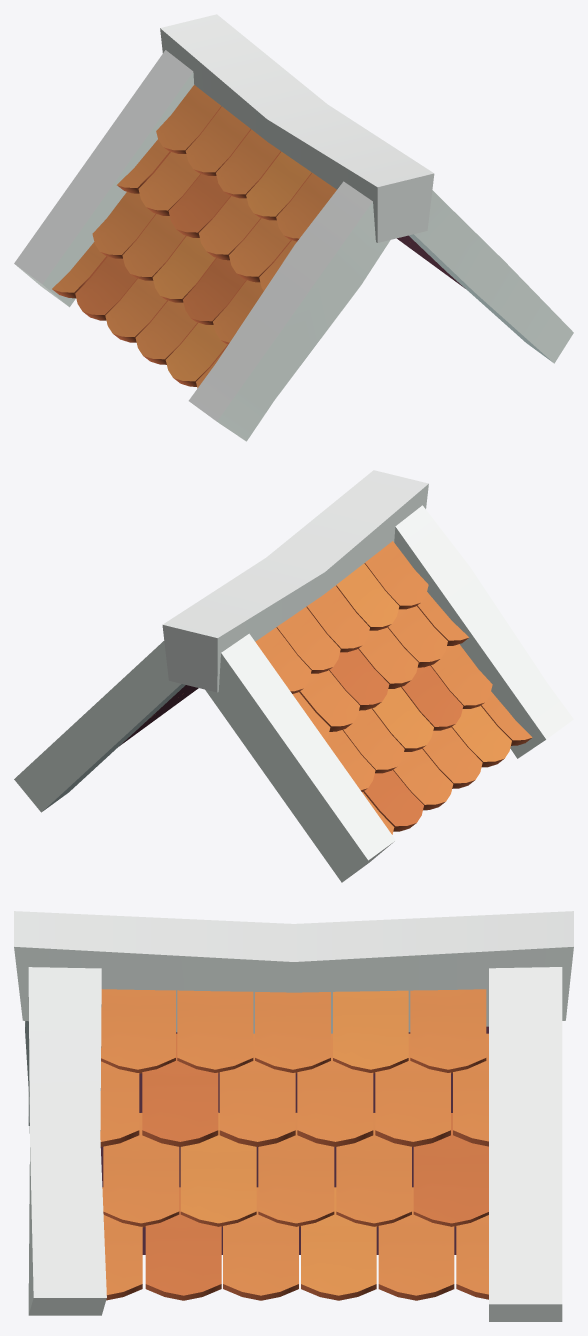
The model's file is Roof01_Wood_White.glb.
The picture shows the model from 3 angles, top to bottom: view 1: azimuth 30°, elevation 25°; view 2: azimuth 150°, elevation 25°; view 3: azimuth 270°, elevation 25°; orthographic projection. The views are drawn at different scales.
Visible parts, largest first — view 1: Roof01_Wood_White; view 2: Roof01_Wood_White; view 3: Roof01_Wood_White.
Part boxes in pixels (x1=…): Roof01_Wood_White: x1=14, y1=14, x2=573, y2=441; Roof01_Wood_White: x1=14, y1=470, x2=573, y2=882; Roof01_Wood_White: x1=14, y1=911, x2=573, y2=1321.
Bounding box in the file's own units: 2.41 × 1.43 × 2.46.
1 material, 1 textured.
